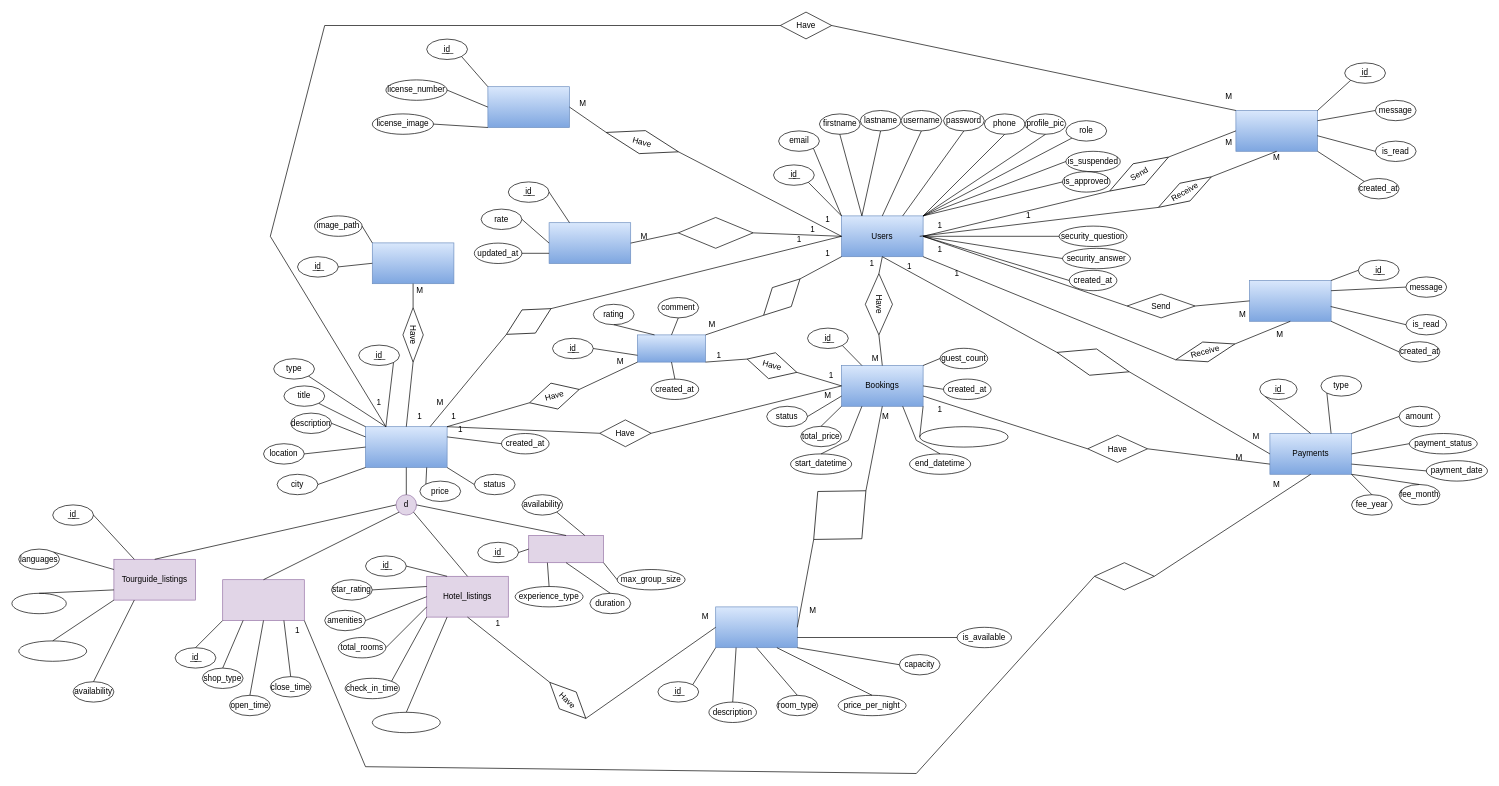
Some shapes in this 1499 by 786 pixel diagram are drawn without their labels. Here are the shapes that lost their labels. From the top down, the centre of each, then its label:
point (528, 107): TourGuide_Licenses
point (1276, 130): Messages
point (589, 243): Commission
point (715, 232): Change
point (413, 263): Listing_images
point (781, 297): Write
point (1290, 300): Notifications
point (528, 321): Create
point (671, 348): Reviews
point (1093, 362): make
point (406, 447): Listings
point (963, 436): commission_amount
point (839, 514): Have (hotel bookings only)
point (566, 549): Experience_listings
point (1124, 576): Pay fee
point (38, 603): specialization
point (263, 599): Shop_listings
point (756, 627): Rooms
point (52, 650): experience_years
point (406, 722): check_out_time
